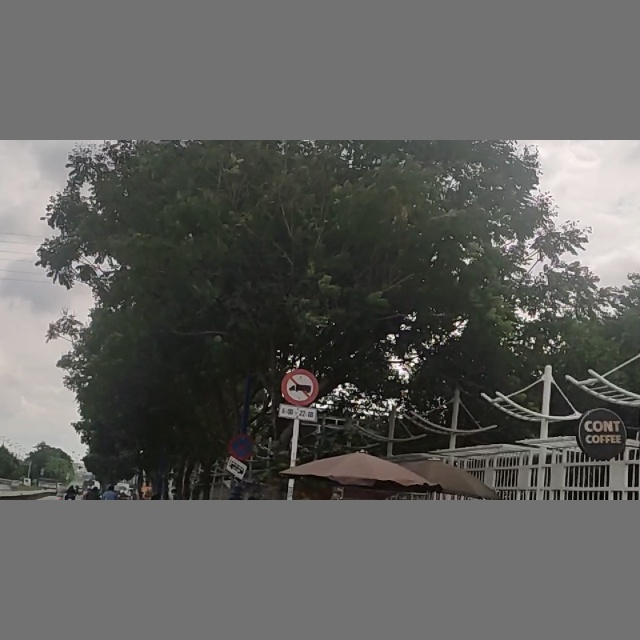B.8a: (279, 369, 315, 420)
